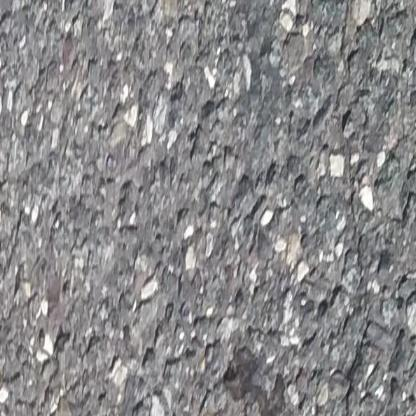Cracks: (218, 333, 290, 416)
